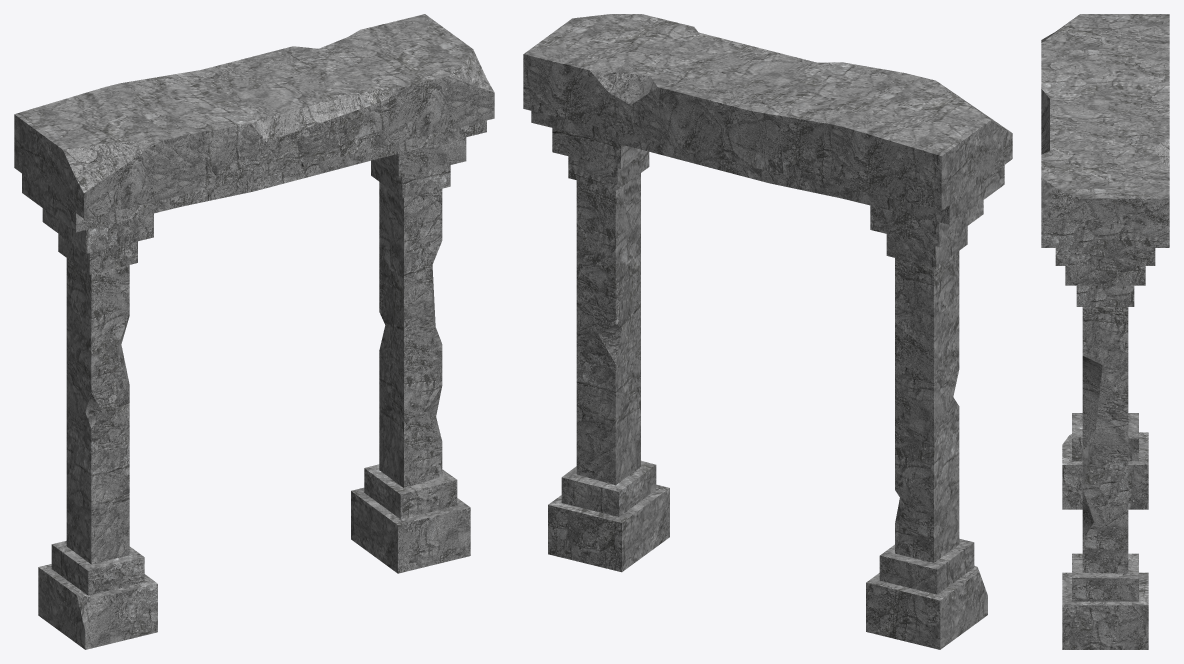
Rendered from materials_3_gate_0.fbx.
3 views of the same model, side by side, from view 1: azimuth 30°, elevation 25°; view 2: azimuth 150°, elevation 25°; view 3: azimuth 270°, elevation 25° (orthographic). The views are drawn at different scales.
Parts seen in each view (by area): view 1: materials_3_gate_0; view 2: materials_3_gate_0; view 3: materials_3_gate_0.
Boxes of the visible parts, x1,y1,x2,y2 form: materials_3_gate_0: (14,14,494,649); materials_3_gate_0: (523,14,1012,649); materials_3_gate_0: (1041,14,1169,649).
Bounding box in the file's own units: 262 × 305 × 76.69.
